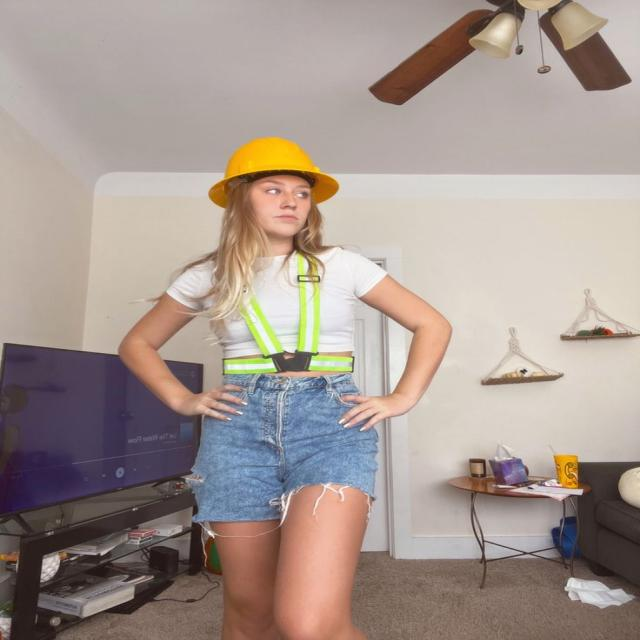Hard Hat: (202, 130, 350, 216)
